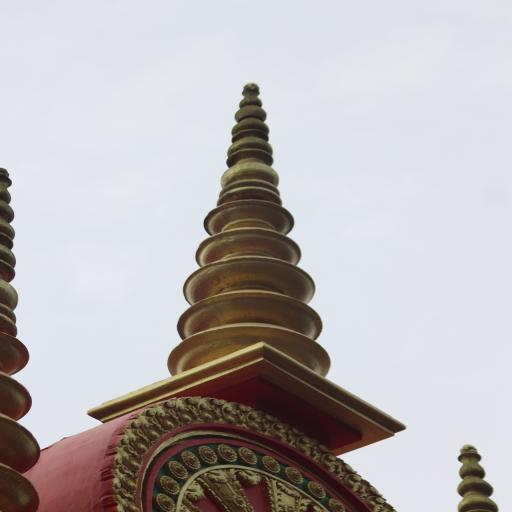hoa: (238, 444, 261, 466), (158, 474, 182, 494), (307, 478, 328, 500), (168, 458, 188, 480), (202, 442, 220, 466), (220, 443, 240, 464), (156, 491, 175, 512), (264, 454, 283, 474), (286, 465, 305, 485), (184, 450, 202, 471), (330, 498, 348, 512)
la: (194, 468, 260, 512), (264, 481, 304, 512), (100, 477, 134, 512), (174, 392, 205, 423), (108, 454, 137, 486), (115, 436, 143, 466), (197, 392, 223, 422), (141, 405, 163, 437), (155, 400, 182, 426), (220, 397, 246, 424), (336, 462, 360, 491), (126, 418, 149, 446), (275, 420, 298, 447), (260, 414, 282, 437), (246, 404, 264, 432), (325, 448, 343, 473), (308, 442, 328, 464), (369, 495, 391, 512), (361, 480, 375, 503), (297, 434, 312, 455)
